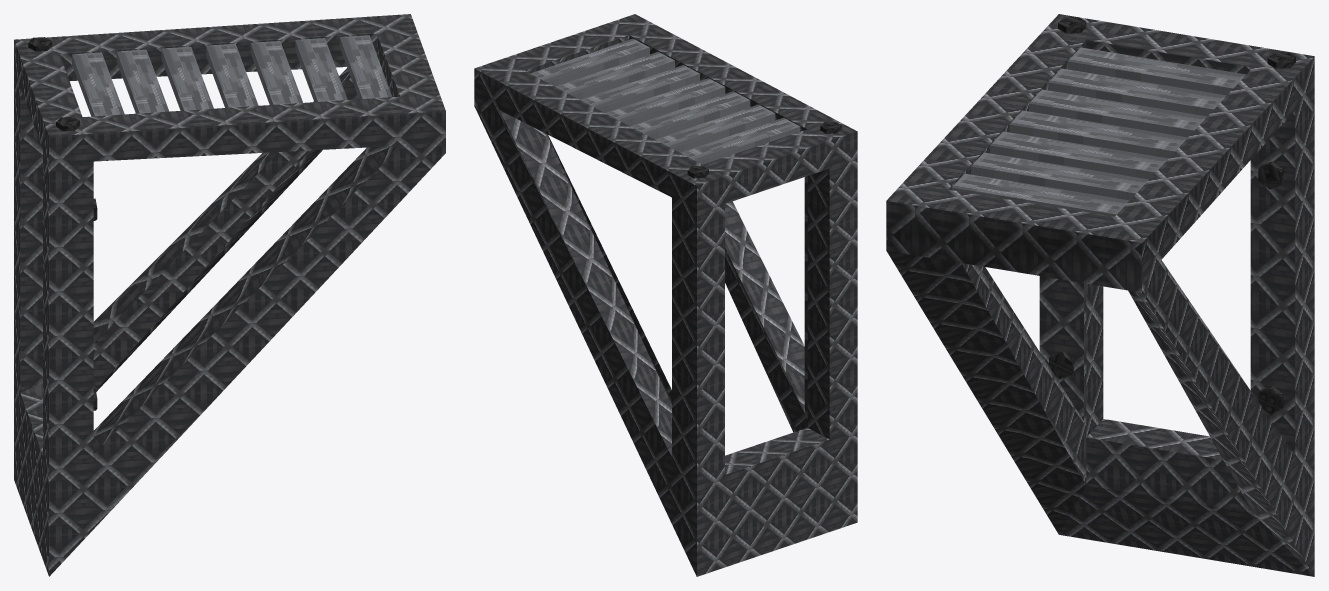
File: BridgeLedgeTiny.fbx
3 renders of one model, left to right at view 1: azimuth 30°, elevation 25°; view 2: azimuth 150°, elevation 25°; view 3: azimuth 270°, elevation 25°, orthographic. The views are drawn at different scales.
Parts seen in each view (by area): view 1: ledge.008, steps.002; view 2: ledge.008, steps.002; view 3: ledge.008, steps.002.
Boxes of the visible parts, x1,y1,x2,y2 form: ledge.008: [14, 14, 445, 576]; steps.002: [72, 35, 392, 116]; ledge.008: [474, 14, 857, 576]; steps.002: [530, 38, 800, 164]; ledge.008: [886, 14, 1314, 576]; steps.002: [951, 47, 1245, 216].
Size of the model in its own units: 987 by 1058 by 780.
